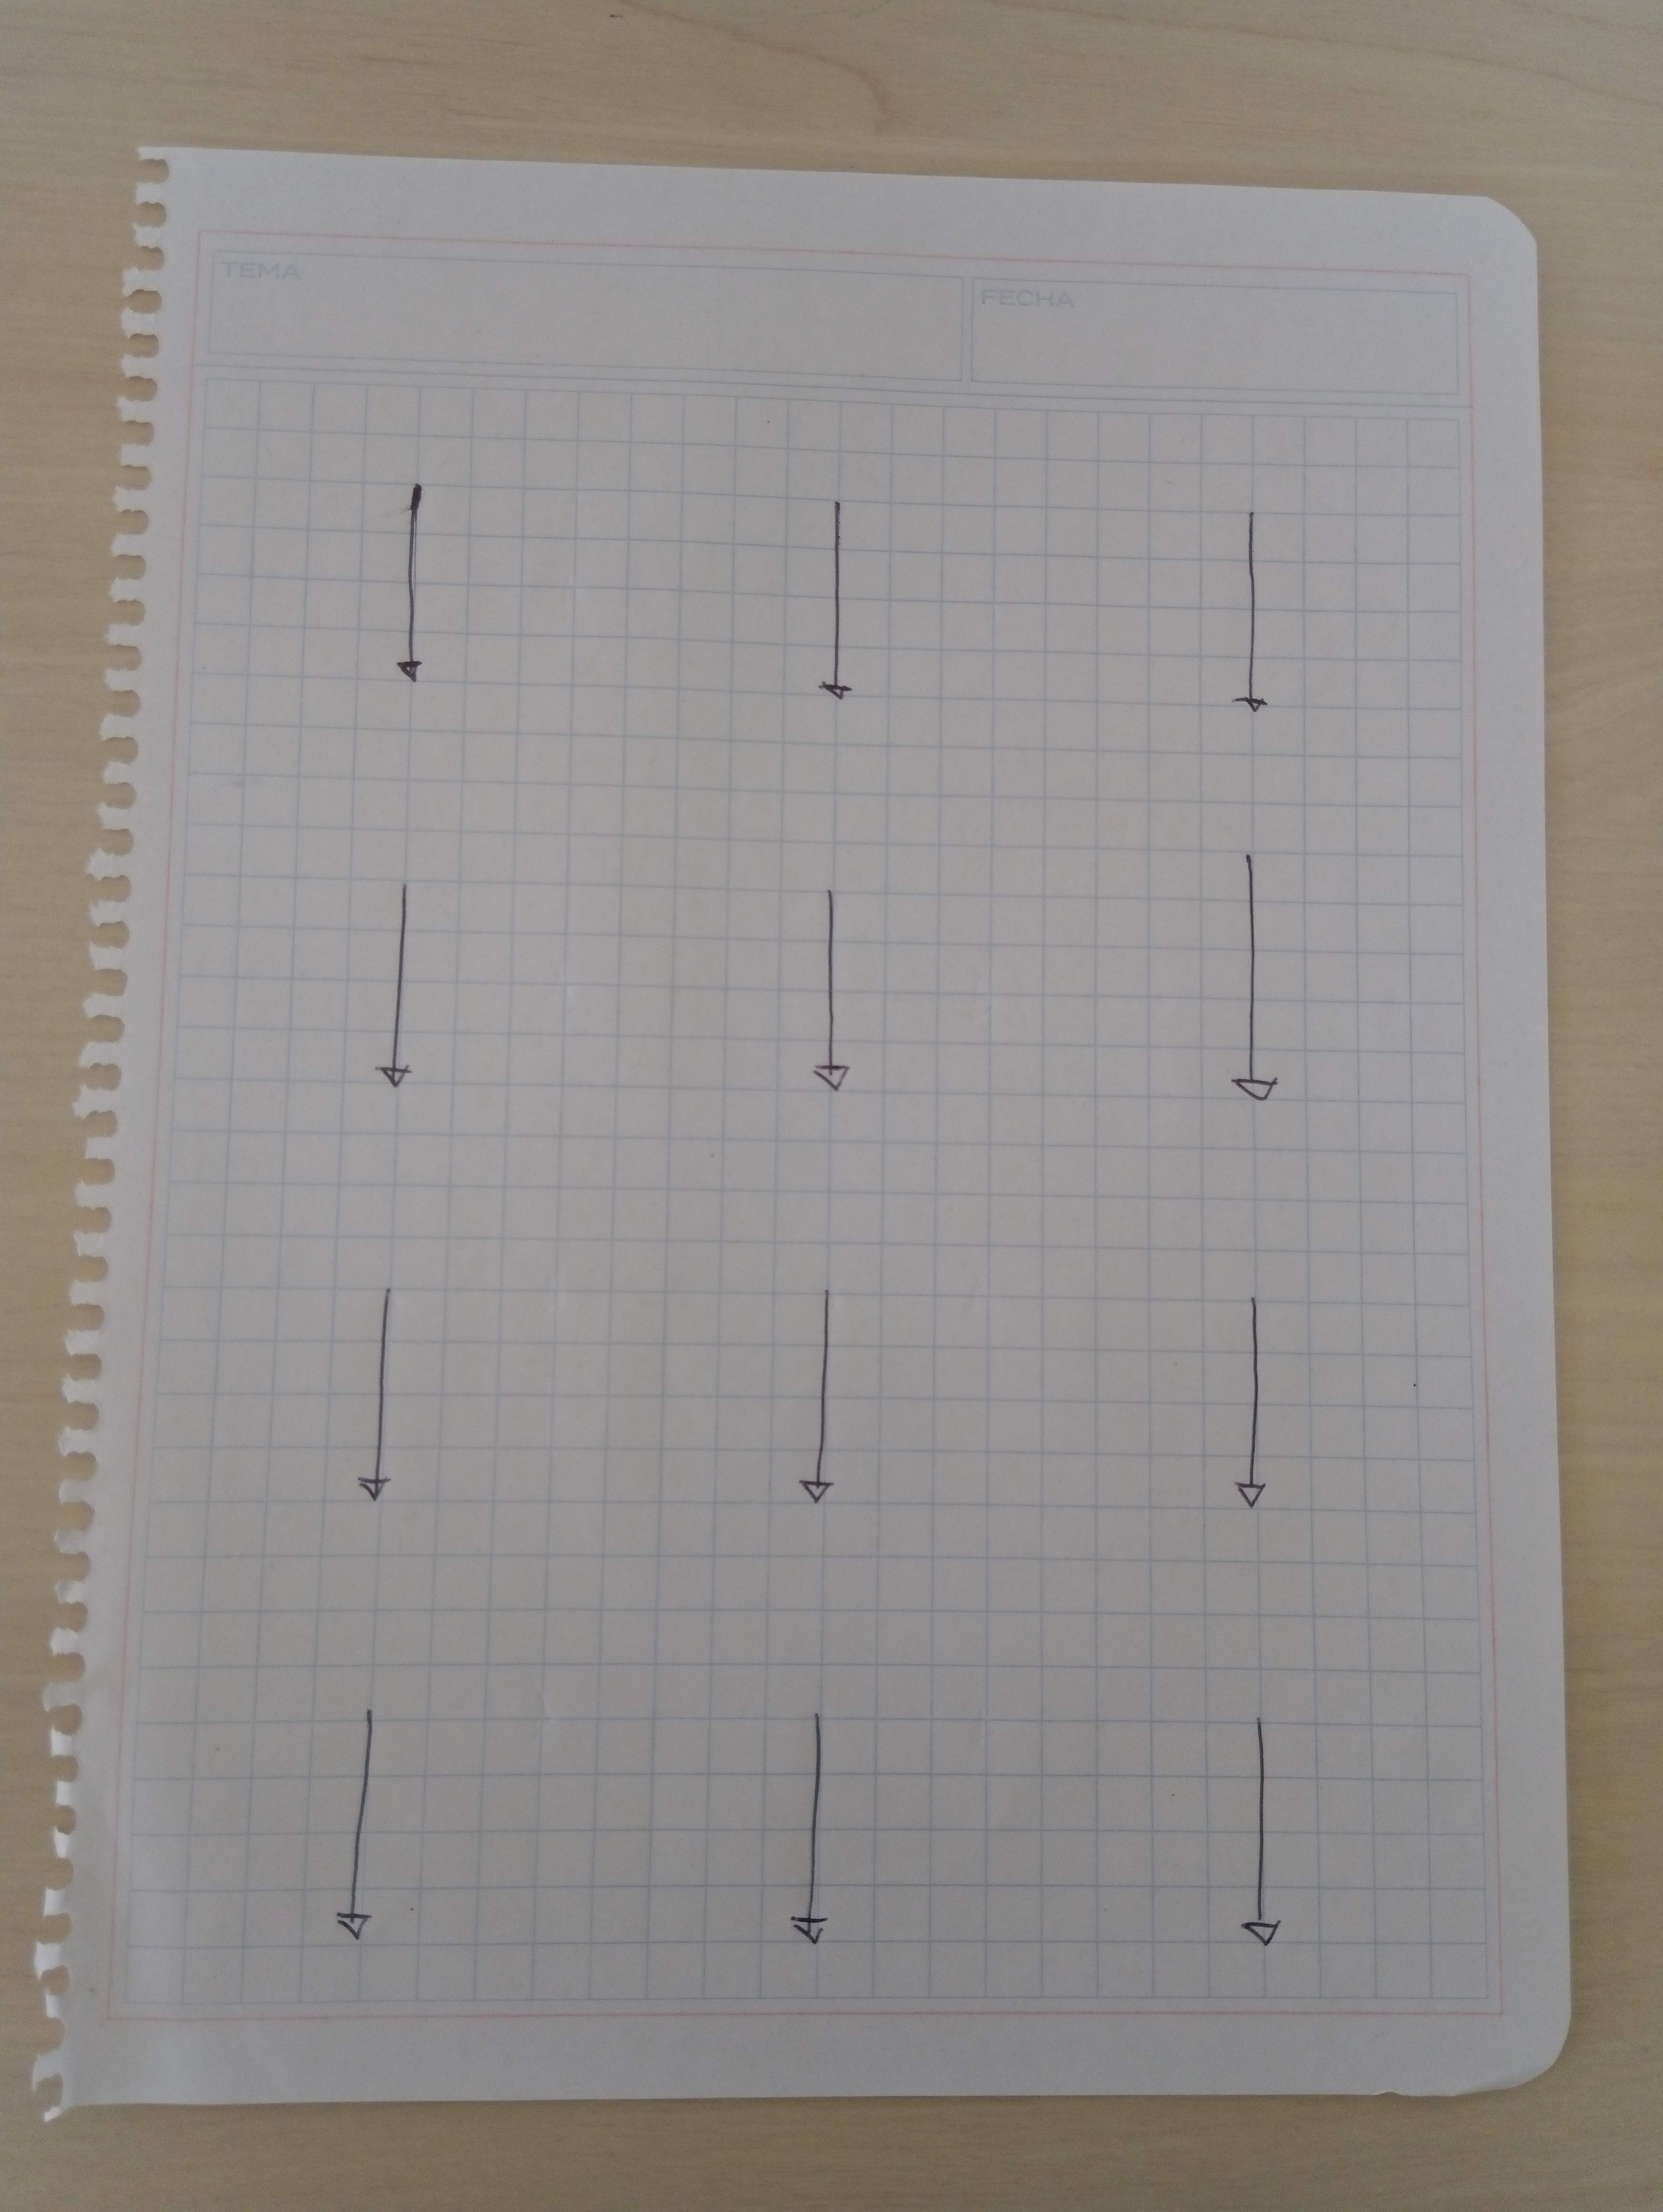arrow_line_down: (749, 1688, 870, 1950), (1207, 845, 1296, 1117), (1214, 1721, 1310, 1964), (1211, 1285, 1303, 1528), (790, 1285, 873, 1531), (367, 871, 449, 1109), (323, 1707, 400, 1950), (376, 482, 456, 702), (804, 868, 877, 1107), (339, 1285, 414, 1505), (800, 494, 870, 721), (1223, 505, 1284, 732)
